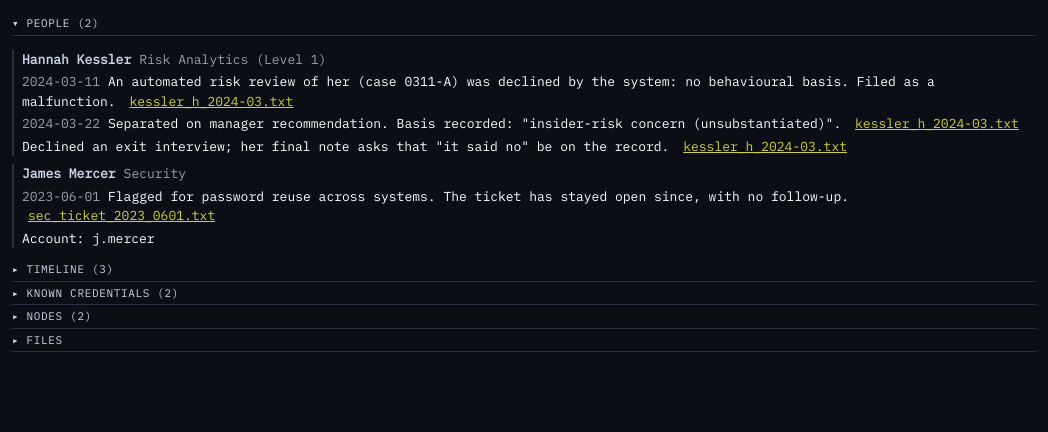
Test: CasePane — credentials › lists a shared credential with its password and level, and no owner
Click the button "▸ KNOWN CREDENTIALS (2)".
click(99, 292)  # box left=12, top=282, right=1036, bottom=305
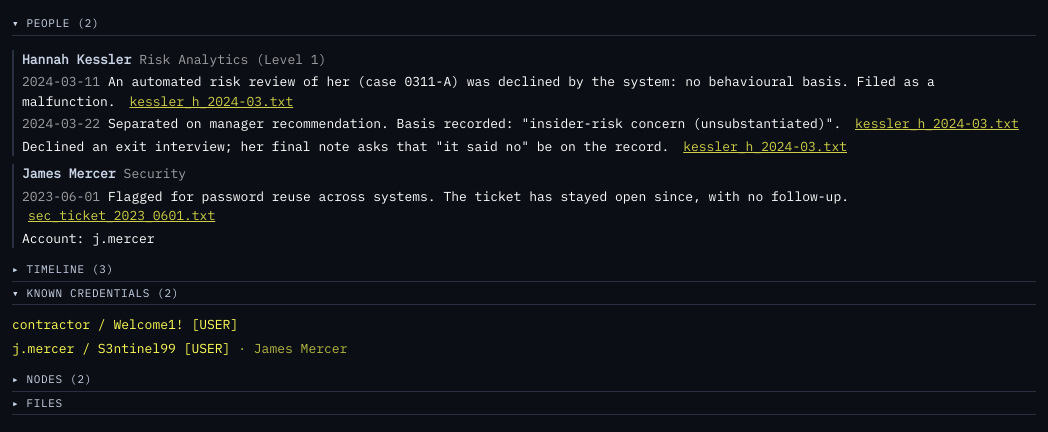
Check: the text with test id "case-account-contractor" shows "contractor", box left=12, top=316, right=238, bottom=333
Check: the text with test id "case-account-contractor" shows "Welcome1!", box left=12, top=316, right=238, bottom=333
Check: the text with test id "case-account-contractor" shows "USER", box left=12, top=316, right=238, bottom=333
